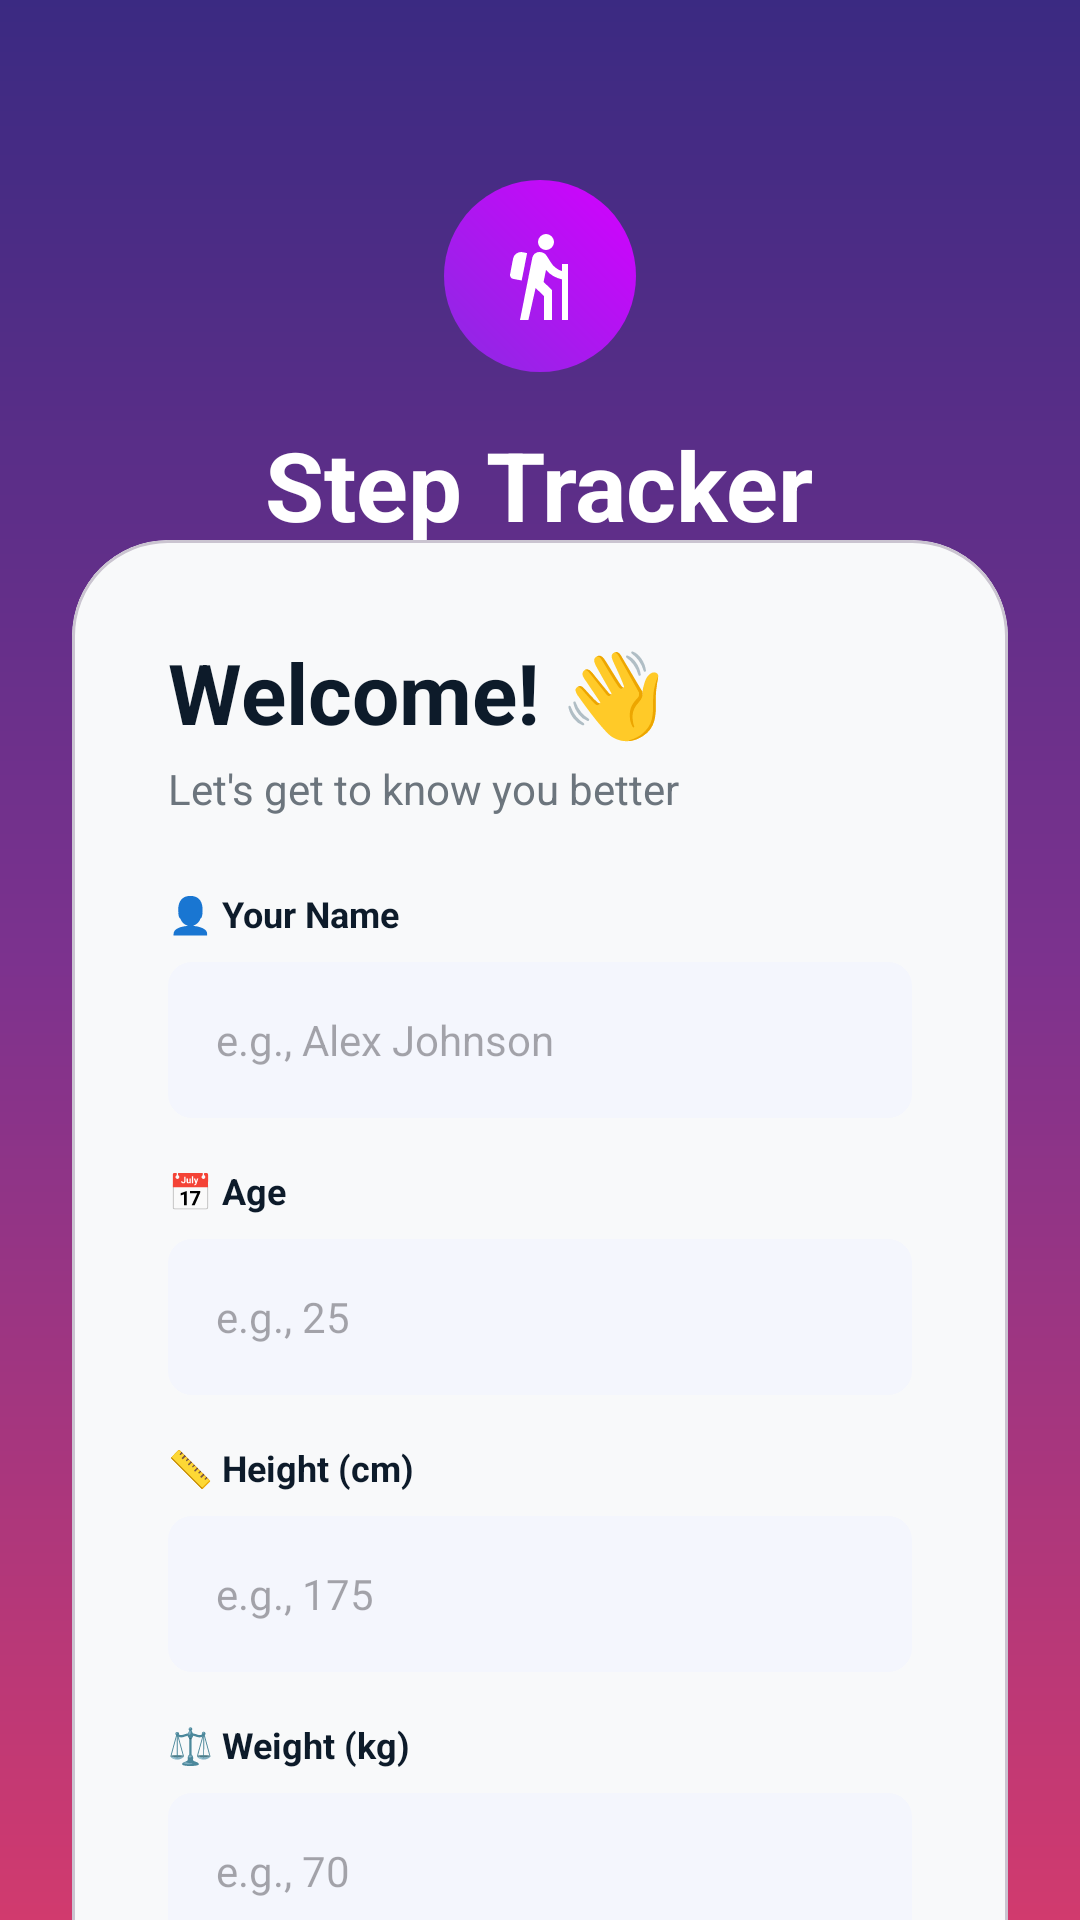

Screen size 1080*1920. Icon name, then its center in pixels as (x=x, y=y):
hiking: (x=540, y=276)
